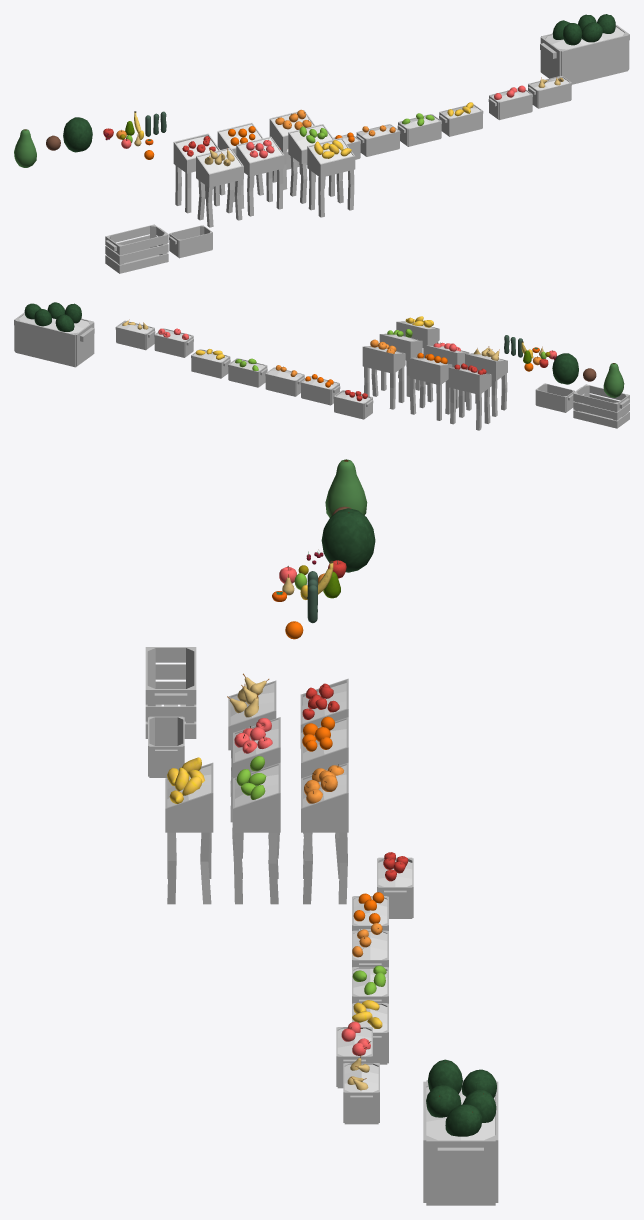
File: Fruits_Pack.fbx
The picture shows the model from 3 angles, top to bottom: view 1: azimuth 30°, elevation 25°; view 2: azimuth 150°, elevation 25°; view 3: azimuth 270°, elevation 25°; orthographic projection. The views are drawn at different scales.
Parts seen in each view (by area): view 1: Fruit_Crate_8, Fruit_Stand_5, Fruit_Stand_2, Crate_1, Fruit_Stand_4, Fruit_Stand_1, Fruit_Stand_6, Fruit_Stand_7, Fruit_Crate_6, Fruit_Crate_4, Crate_2, Fruit_Crate_5 (+5 smaller); view 2: Fruit_Crate_8, Crate_1, Fruit_Stand_7, Fruit_Stand_1, Fruit_Stand_3, Fruit_Stand_2, Fruit_Stand_6, Fruit_Crate_6, Fruit_Crate_1, Fruit_Crate_5, Fruit_Crate_7, Fruit_Crate_4 (+7 smaller); view 3: Fruit_Crate_8, Fruit_Stand_5, Fruit_Stand_6, Fruit_Stand_7, Crate_1, Fruits_watermelon, Fruit_Stand_3, Fruit_Crate_7, Fruit_Stand_2, Fruit_Stand_4, Crate_2, Fruit_Crate_1 (+7 smaller).
Part boxes in pixels (left/top/right/bottom): Fruit_Crate_8: left=540, top=14, right=629, bottom=84; Fruit_Stand_5: left=307, top=137, right=355, bottom=217; Fruit_Stand_2: left=196, top=147, right=243, bottom=227; Crate_1: left=105, top=224, right=168, bottom=273; Fruit_Stand_4: left=236, top=136, right=284, bottom=216; Fruit_Stand_1: left=173, top=133, right=219, bottom=213; Fruit_Stand_6: left=288, top=124, right=334, bottom=203; Fruit_Stand_7: left=269, top=109, right=315, bottom=189; Fruit_Crate_6: left=488, top=85, right=532, bottom=120; Fruit_Crate_4: left=397, top=113, right=441, bottom=146; Crate_2: left=169, top=225, right=212, bottom=258; Fruit_Crate_5: left=439, top=102, right=483, bottom=136; Fruit_Crate_8: left=14, top=302, right=94, bottom=367; Crate_1: left=573, top=384, right=629, bottom=428; Fruit_Stand_7: left=362, top=339, right=405, bottom=409; Fruit_Stand_1: left=448, top=363, right=491, bottom=430; Fruit_Stand_3: left=409, top=352, right=452, bottom=420; Fruit_Stand_2: left=465, top=346, right=507, bottom=416; Fruit_Stand_6: left=379, top=329, right=422, bottom=396; Fruit_Crate_6: left=154, top=328, right=193, bottom=357; Fruit_Crate_1: left=333, top=390, right=373, bottom=419; Fruit_Crate_5: left=191, top=349, right=230, bottom=378; Fruit_Crate_7: left=115, top=319, right=155, bottom=350; Fruit_Crate_4: left=228, top=358, right=267, bottom=387; Fruit_Crate_8: left=423, top=1059, right=498, bottom=1205; Fruit_Stand_5: left=165, top=757, right=213, bottom=904; Fruit_Stand_6: left=232, top=756, right=280, bottom=904; Fruit_Stand_7: left=301, top=762, right=348, bottom=904; Crate_1: left=145, top=647, right=196, bottom=738; Fruits_watermelon: left=321, top=508, right=375, bottom=572; Fruit_Stand_3: left=301, top=716, right=348, bottom=858; Fruit_Crate_7: left=343, top=1055, right=379, bottom=1124; Fruit_Stand_2: left=227, top=673, right=276, bottom=822; Fruit_Stand_4: left=233, top=717, right=280, bottom=858; Crate_2: left=148, top=716, right=184, bottom=777; Fruit_Crate_1: left=377, top=852, right=413, bottom=918.
Size of the model in its own units: 9.71 by 1.64 by 2.58.
